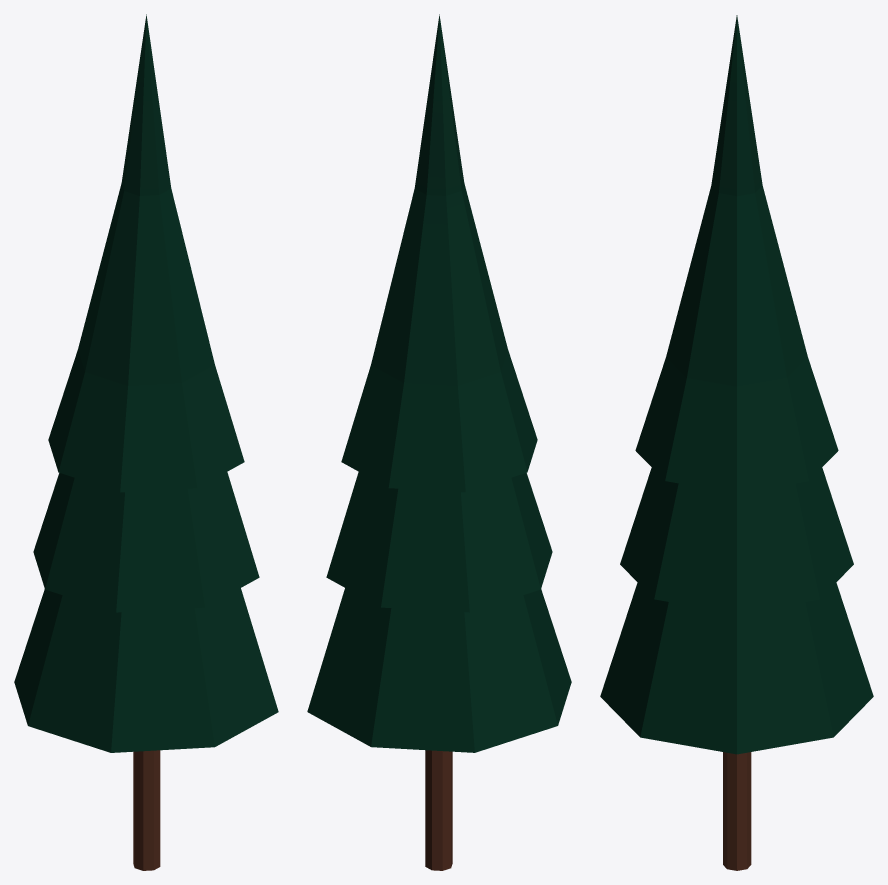
File: pino3.obj
The picture shows the model from 3 angles, left to right: view 1: azimuth 30°, elevation 25°; view 2: azimuth 150°, elevation 25°; view 3: azimuth 270°, elevation 25°; orthographic projection.
Parts seen in each view (by area): view 1: Firtree_1; view 2: Firtree_1; view 3: Firtree_1.
Part boxes in pixels (x1,y1,x2,y2): Firtree_1: (14,14,278,870); Firtree_1: (307,14,571,870); Firtree_1: (600,15,873,870).
Size of the model in its own units: 1.02 by 3.51 by 1.02.
Materials: 1 (1 with a texture image).
